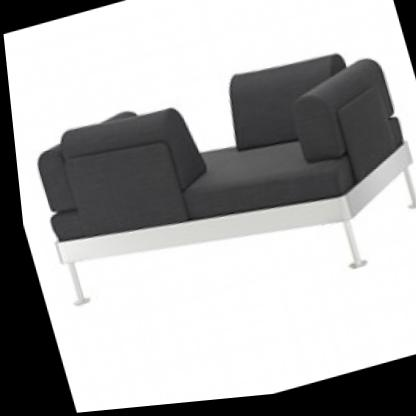Sofa: (3, 1, 416, 357)
